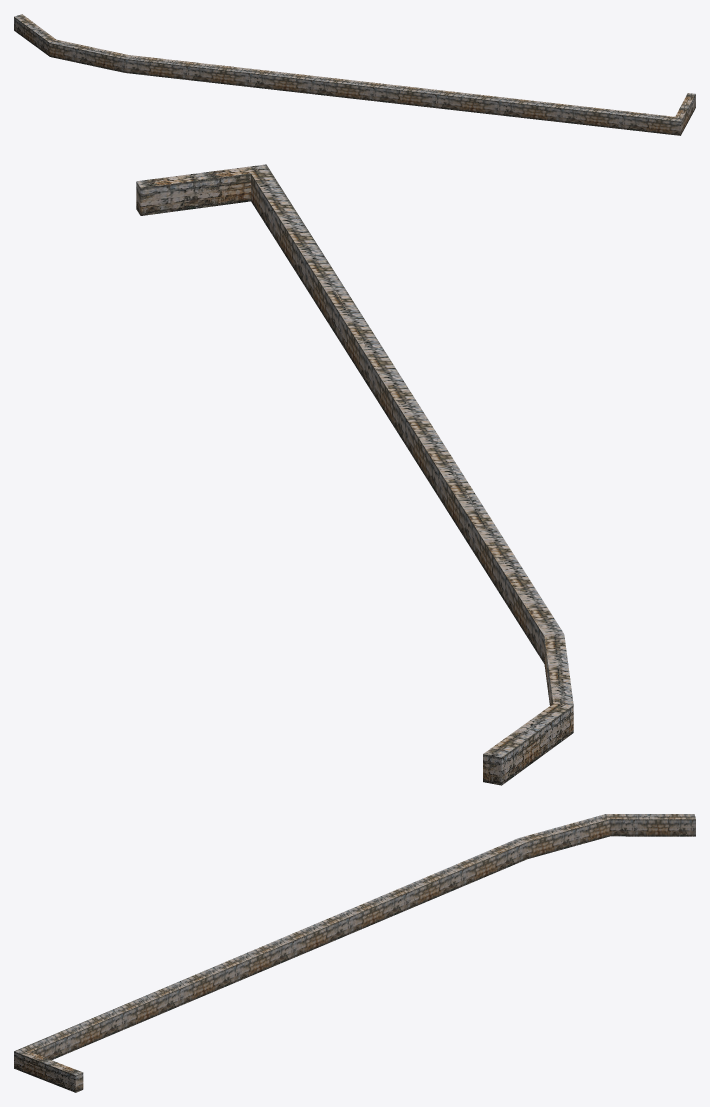
The model's file is M11_LowWall01.glb.
3 views of the same model, one above another, from view 1: azimuth 30°, elevation 25°; view 2: azimuth 150°, elevation 25°; view 3: azimuth 270°, elevation 25° (orthographic). The views are drawn at different scales.
Visible parts, largest first — view 1: M11_LOWWALL01; view 2: M11_LOWWALL01; view 3: M11_LOWWALL01.
Boxes of the visible parts, <box> form: M11_LOWWALL01: <box>14,14,695,135</box>; M11_LOWWALL01: <box>136,164,573,785</box>; M11_LOWWALL01: <box>14,814,695,1092</box>.
Bounding box in the file's own units: 24.29 × 0.75 × 26.77.
Materials: 1 (1 with a texture image).
